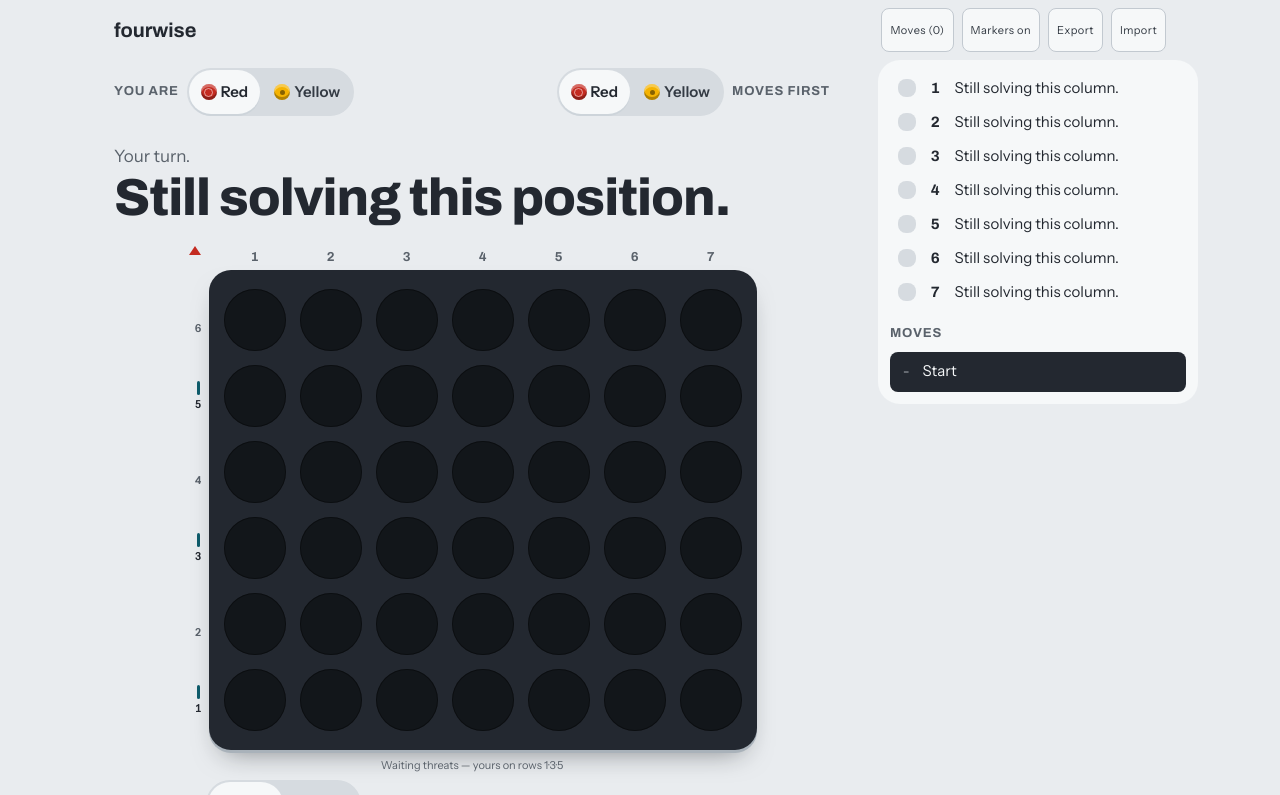
Games door + sheet (design §15.2/§16) › Close returns to exactly the position and mode the user left
This screenshot has width=1280, height=795.
Press 4
(page scrolled)
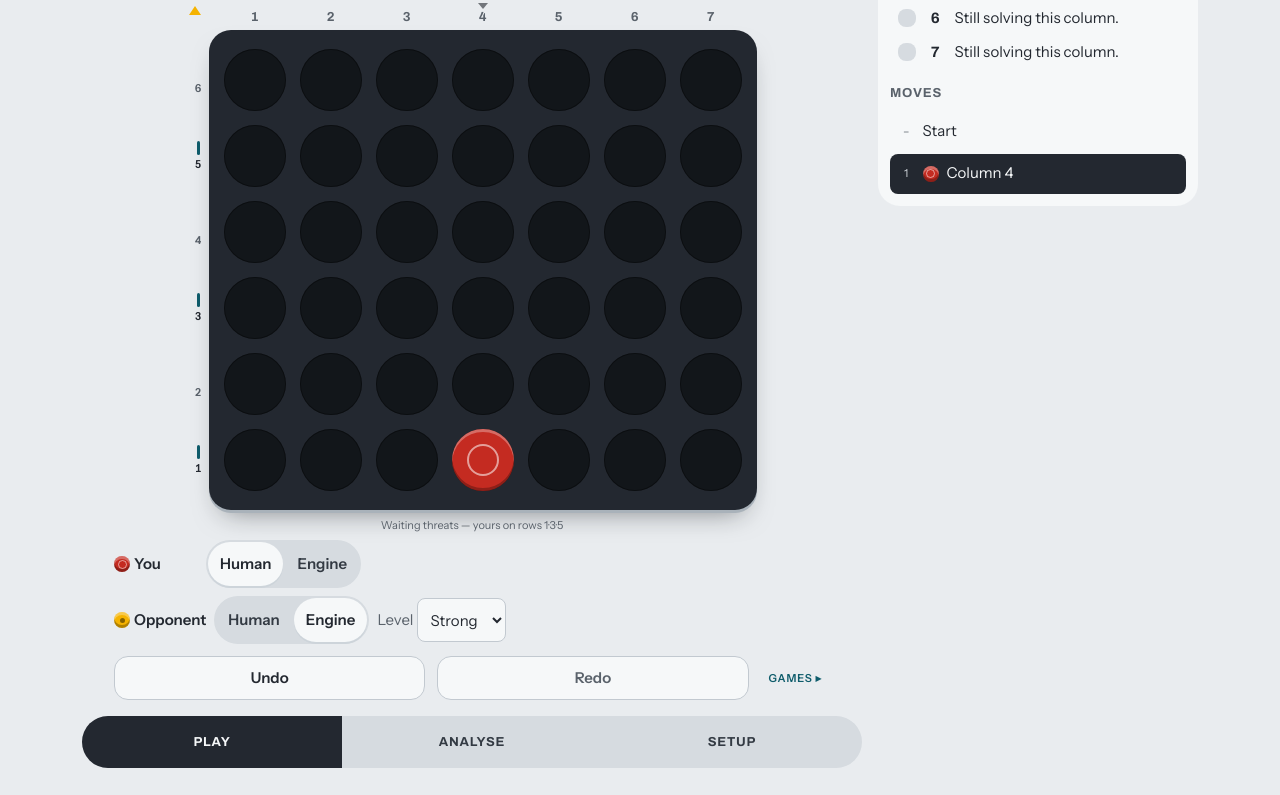
Click the button "Games ▸" at [795, 678], box 761,656 -> 830,700
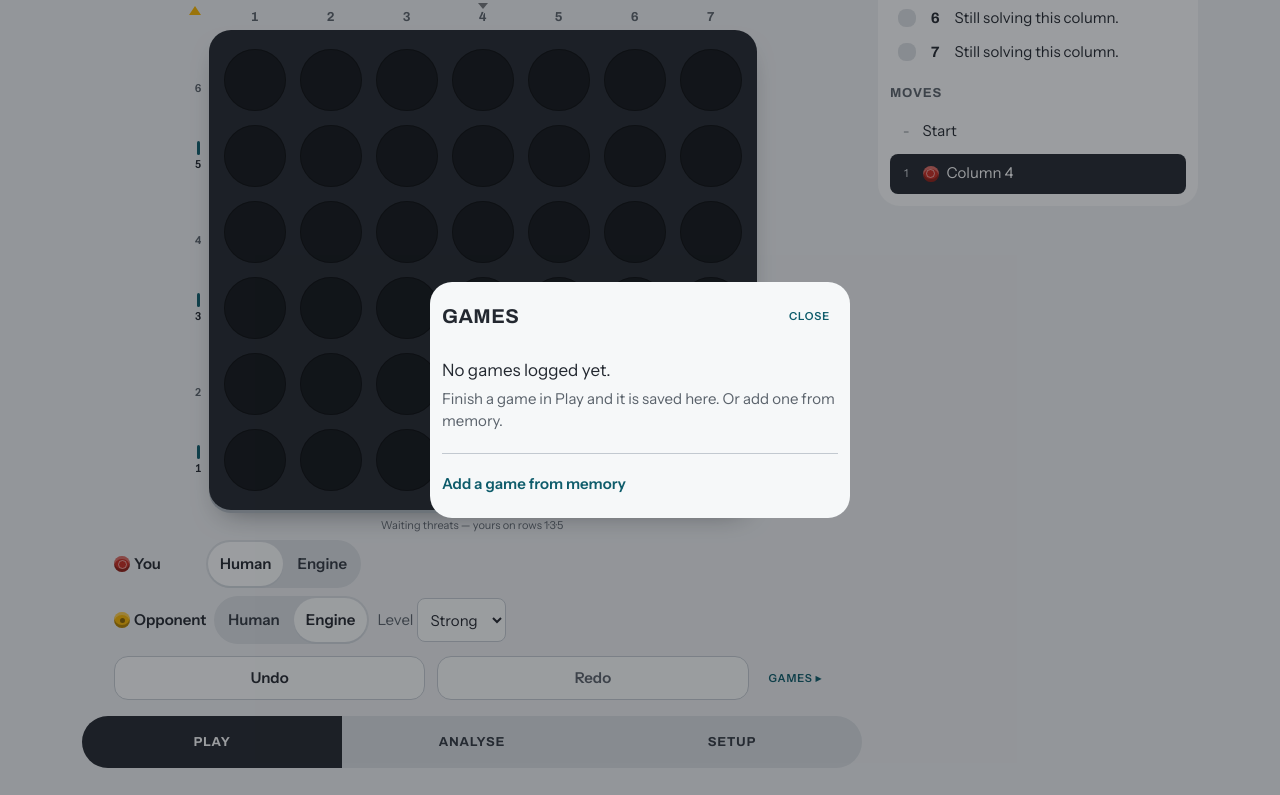
Click the button "Close" at [809, 316], box 781,294 -> 838,338
(page scrolled)
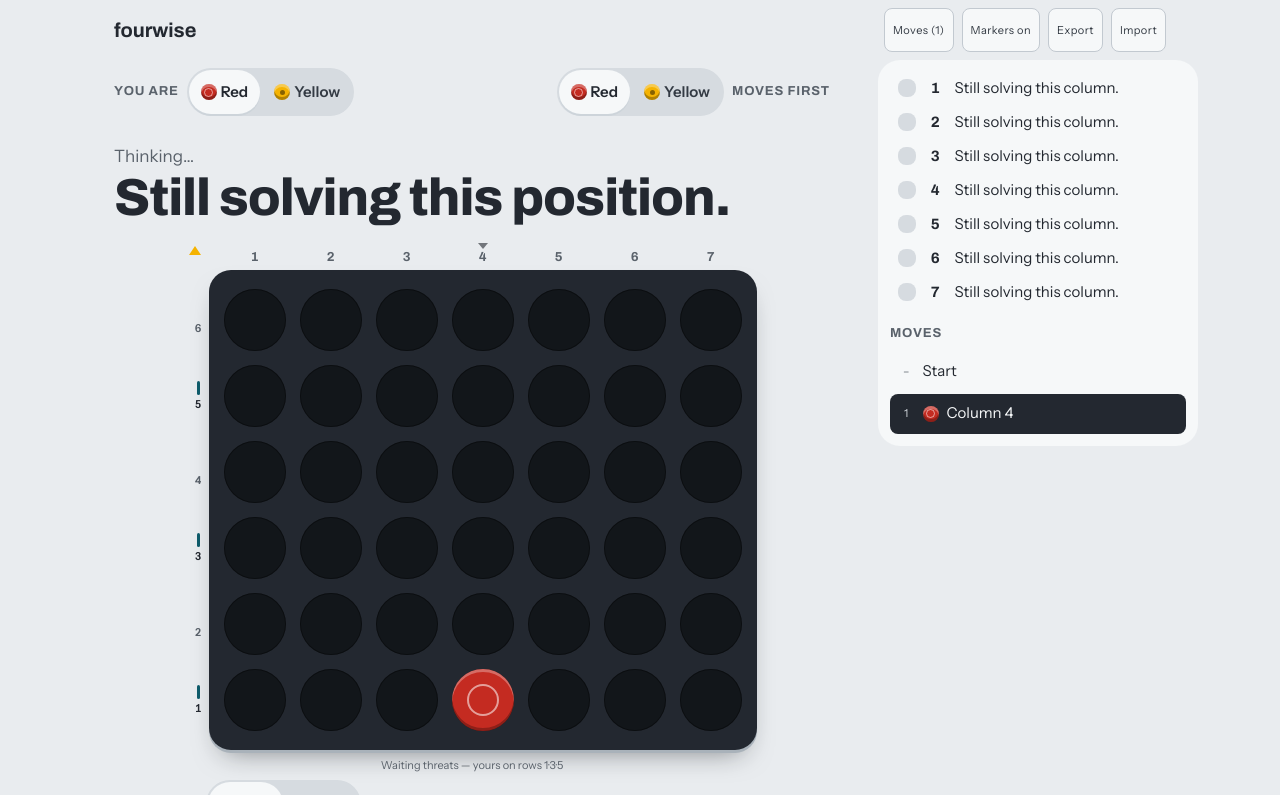
Now the button "Moves (1)" is shown, box 884,8 -> 954,52
Now the dialog is gone
